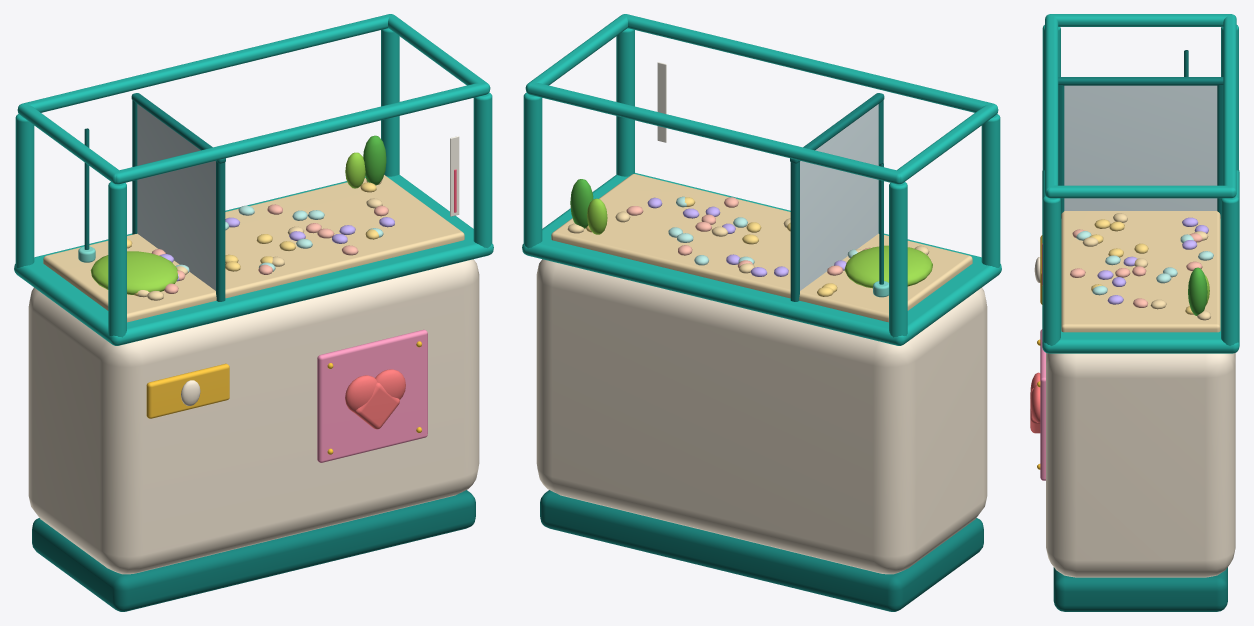
The model's file is BreedingTank.fbx.
3 views of the same model, side by side, from view 1: azimuth 30°, elevation 25°; view 2: azimuth 150°, elevation 25°; view 3: azimuth 270°, elevation 25° (orthographic). The views are drawn at different scales.
Parts seen in each view (by area): view 1: BreedingTank mesh; view 2: BreedingTank mesh; view 3: BreedingTank mesh.
Boxes of the visible parts, x1=… form: BreedingTank mesh: x1=14, y1=14, x2=493, y2=611; BreedingTank mesh: x1=522, y1=14, x2=1001, y2=611; BreedingTank mesh: x1=1030, y1=14, x2=1239, y2=611.
Size of the model in its own units: 1.12 by 1.25 by 0.551.
